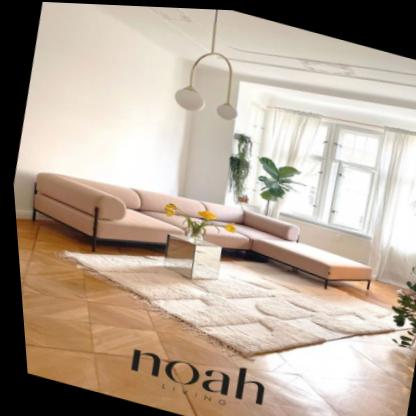Ceramic floor: (13, 220, 411, 416)
Curtains: (226, 99, 326, 217), (366, 127, 416, 284)
